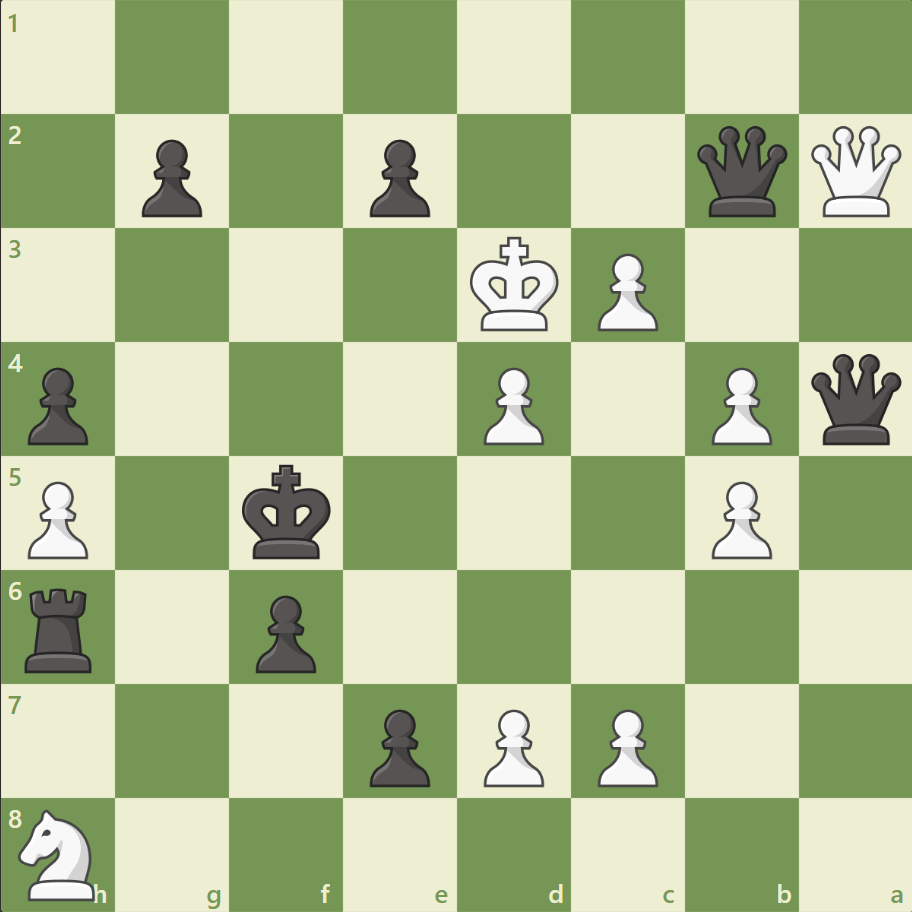K: (465, 231, 565, 339)
N: (11, 802, 108, 904)
P: (474, 700, 549, 791), (701, 473, 776, 564), (20, 473, 95, 564), (701, 359, 776, 450), (474, 359, 549, 450), (588, 700, 662, 791), (588, 246, 662, 337)
Q: (805, 122, 904, 222)
k: (238, 458, 338, 566)
p: (247, 586, 322, 677), (20, 359, 95, 450), (133, 132, 208, 223), (361, 700, 435, 791), (361, 132, 435, 223)
q: (805, 349, 904, 449), (691, 122, 790, 222)
r: (19, 579, 102, 676)
